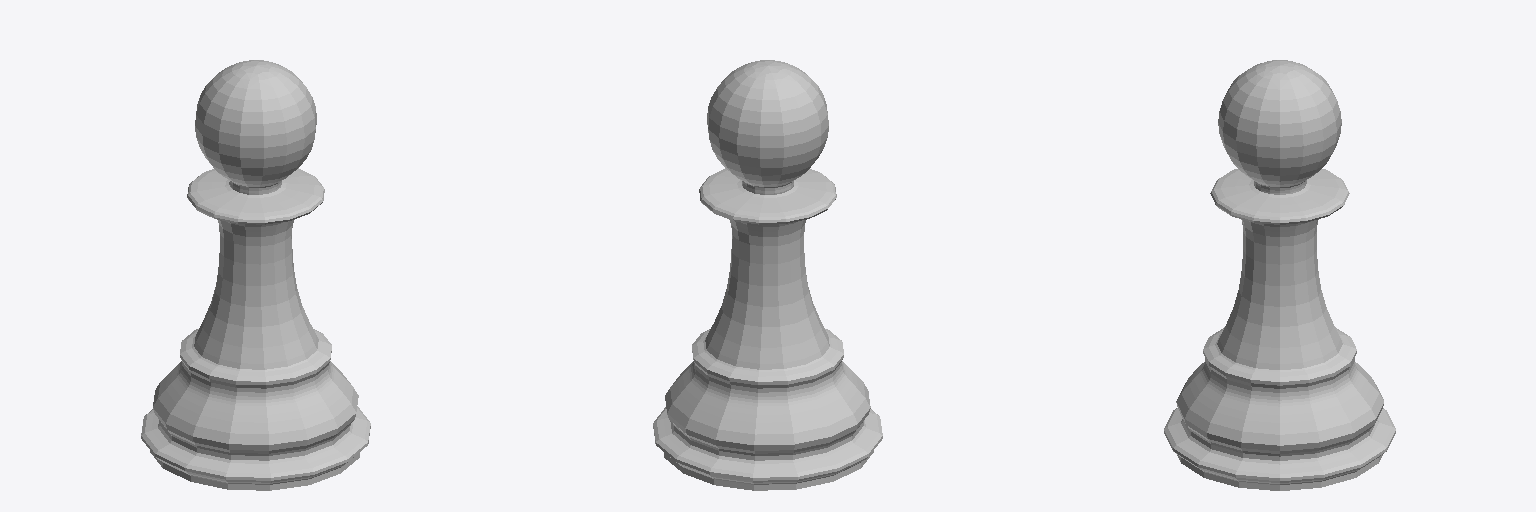
File: bpawn.obj
3 views of the same model, side by side, from view 1: azimuth 30°, elevation 25°; view 2: azimuth 150°, elevation 25°; view 3: azimuth 270°, elevation 25° (orthographic).
Parts seen in each view (by area): view 1: BlackPawn1_Cylinder.015; view 2: BlackPawn1_Cylinder.015; view 3: BlackPawn1_Cylinder.015.
Part boxes in pixels (x1,y1,x2,y2): BlackPawn1_Cylinder.015: (141,60,370,490); BlackPawn1_Cylinder.015: (653,60,882,490); BlackPawn1_Cylinder.015: (1164,60,1395,490).
Bounding box in the file's own units: 1.02 × 1.85 × 1.02.